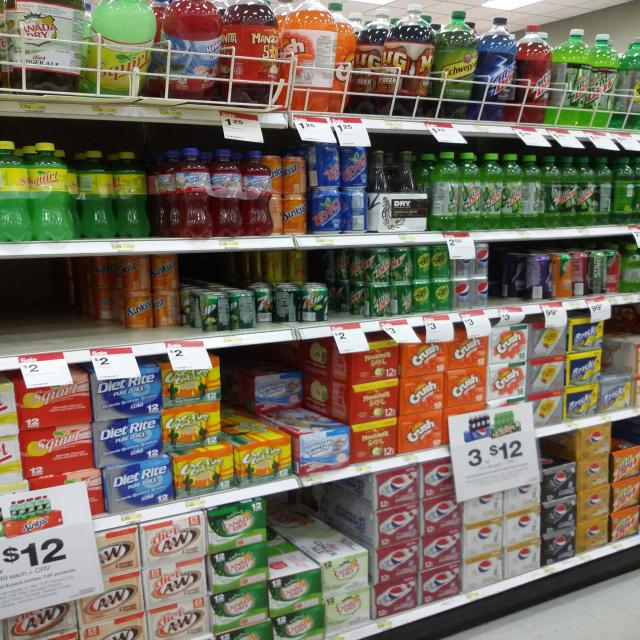void: (1, 256, 44, 373), (50, 259, 90, 366)
